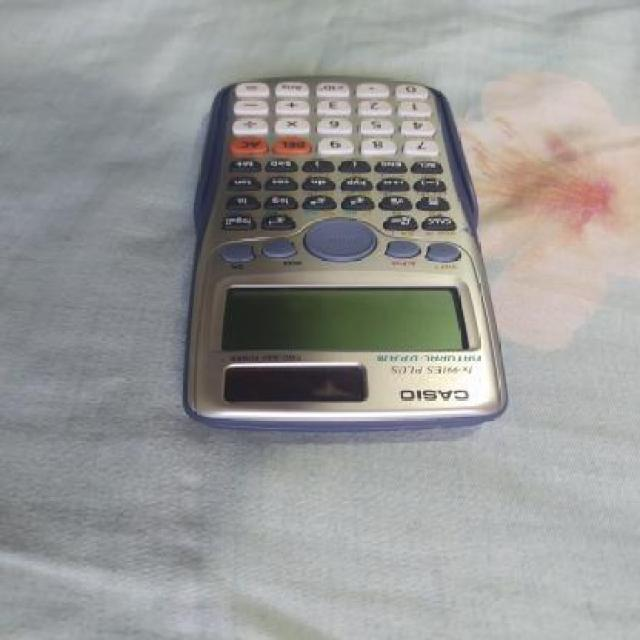Calculator: (172, 61, 522, 448)
